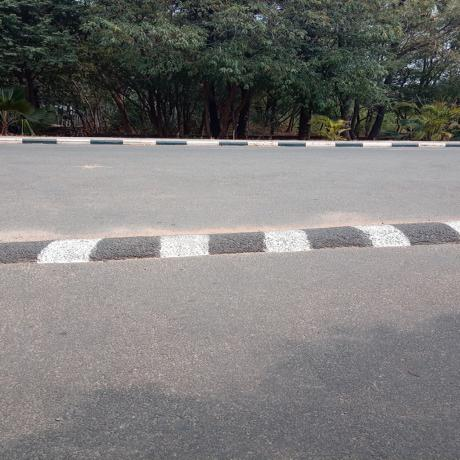Speed Bump: (3, 221, 459, 264)
